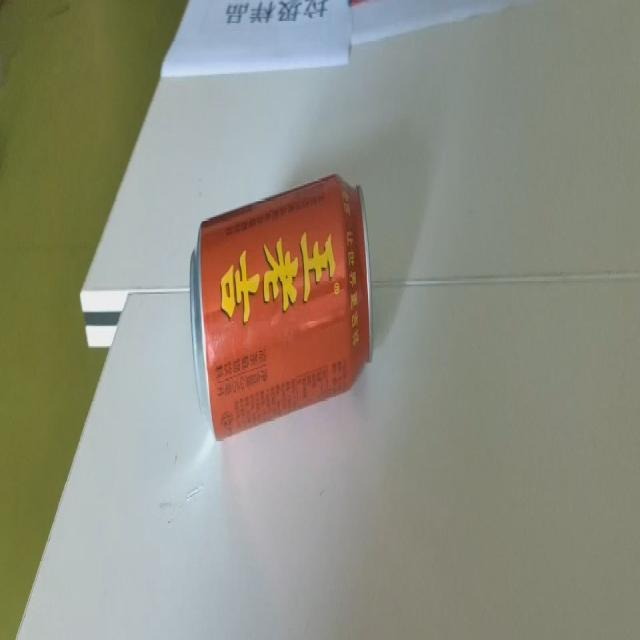can: (190, 174, 375, 449)
